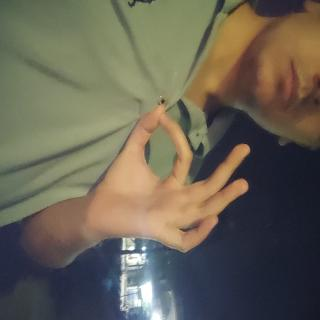Space: (79, 86, 190, 315)
